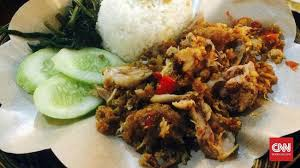ayam_geprek: (104, 27, 276, 157)
